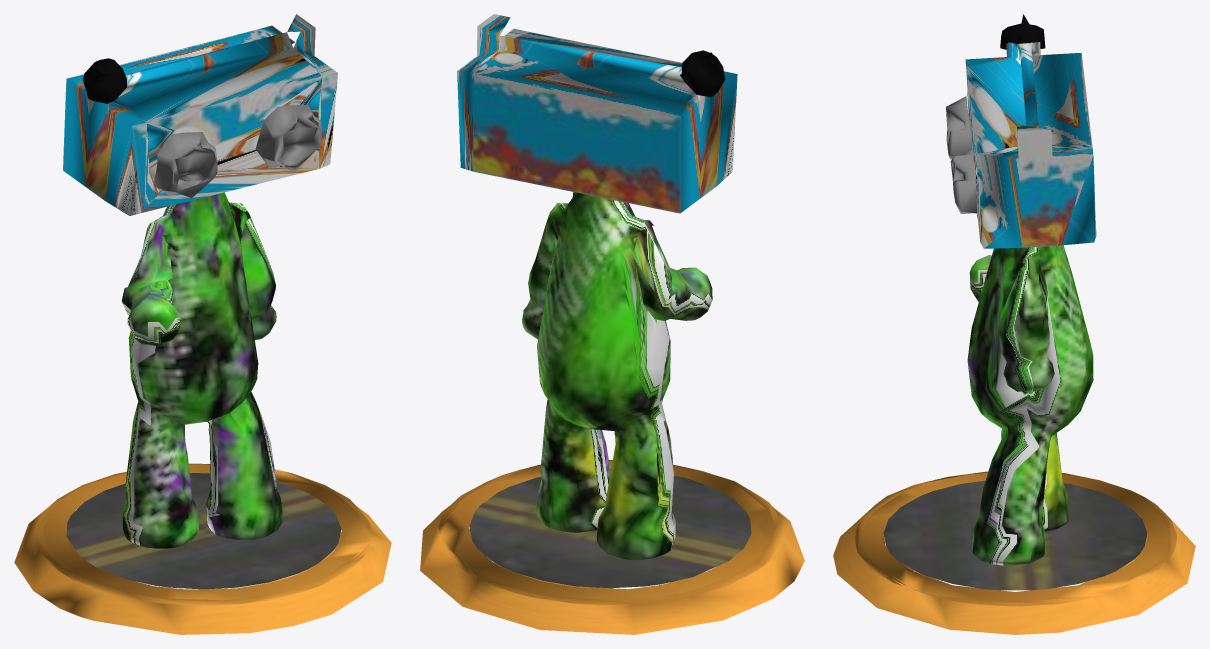
3 renders of one model, left to right at view 1: azimuth 30°, elevation 25°; view 2: azimuth 150°, elevation 25°; view 3: azimuth 270°, elevation 25°, orthographic. The views are drawn at different scales.
Size of the model in its own units: 1.45 by 2.18 by 1.44.
6 materials, 4 textured.
